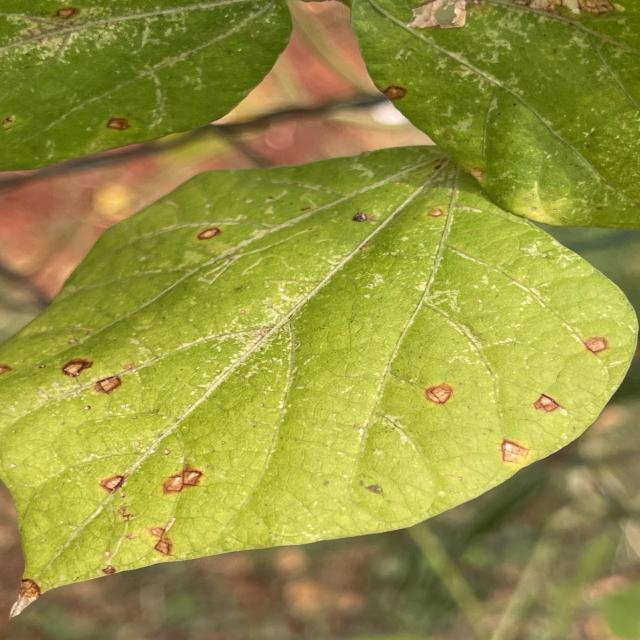Dolicos bean_cercospora leaf spot: (0, 132, 633, 613)
